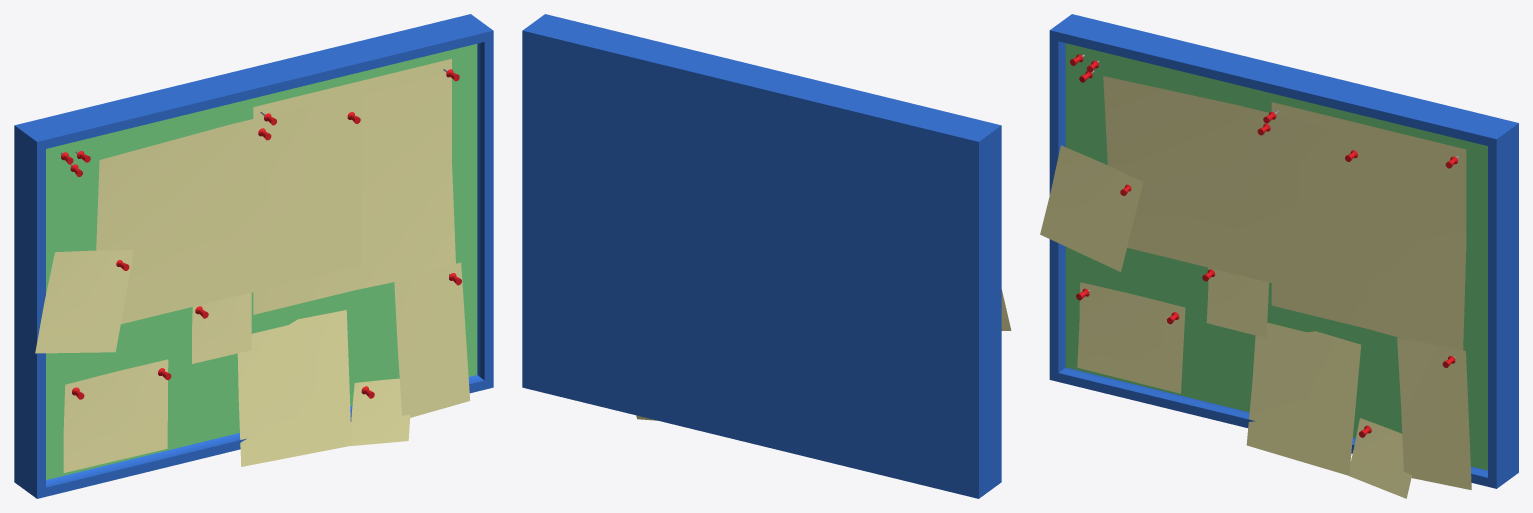
File: Tabla_Tareas.fbx
3 renders of one model, left to right at view 1: azimuth 30°, elevation 25°; view 2: azimuth 150°, elevation 25°; view 3: azimuth 330°, elevation 25°, orthographic. The views are drawn at different scales.
Visible parts, largest first — view 1: Tabla_Tareas; view 2: Tabla_Tareas; view 3: Tabla_Tareas.
Boxes of the visible parts, bbox=[...] form: Tabla_Tareas: bbox=[14, 14, 493, 498]; Tabla_Tareas: bbox=[522, 14, 1011, 498]; Tabla_Tareas: bbox=[1040, 14, 1518, 498].
Bounding box in the file's own units: 109 × 87.24 × 12.92.
